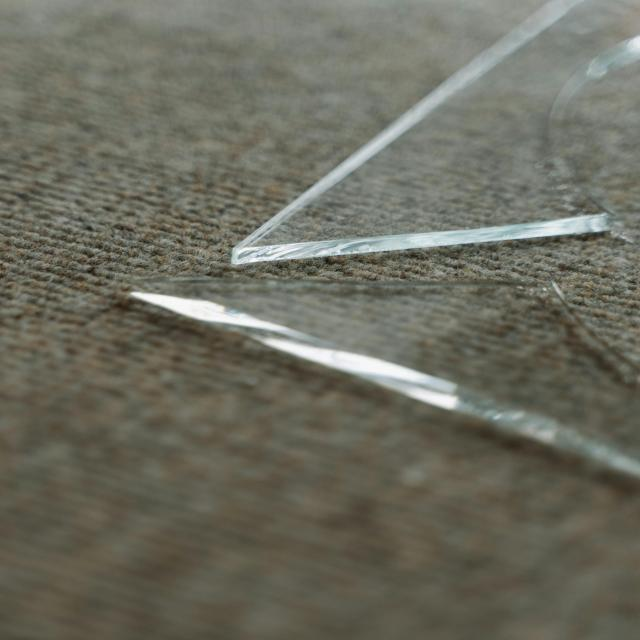electronic: (119, 0, 639, 482)
